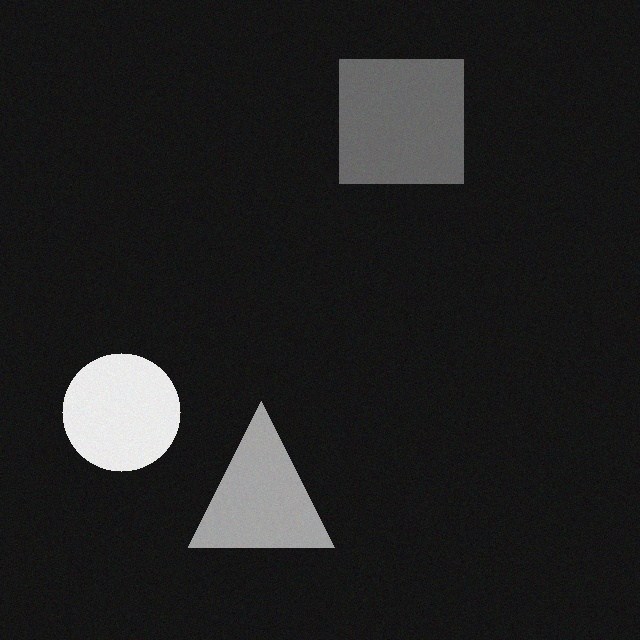circle: (77, 348, 195, 466)
square: (354, 54, 478, 178)
triangle: (203, 396, 349, 542)
